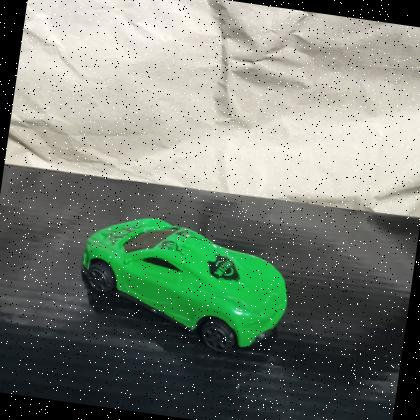Car: (80, 218, 288, 353)
